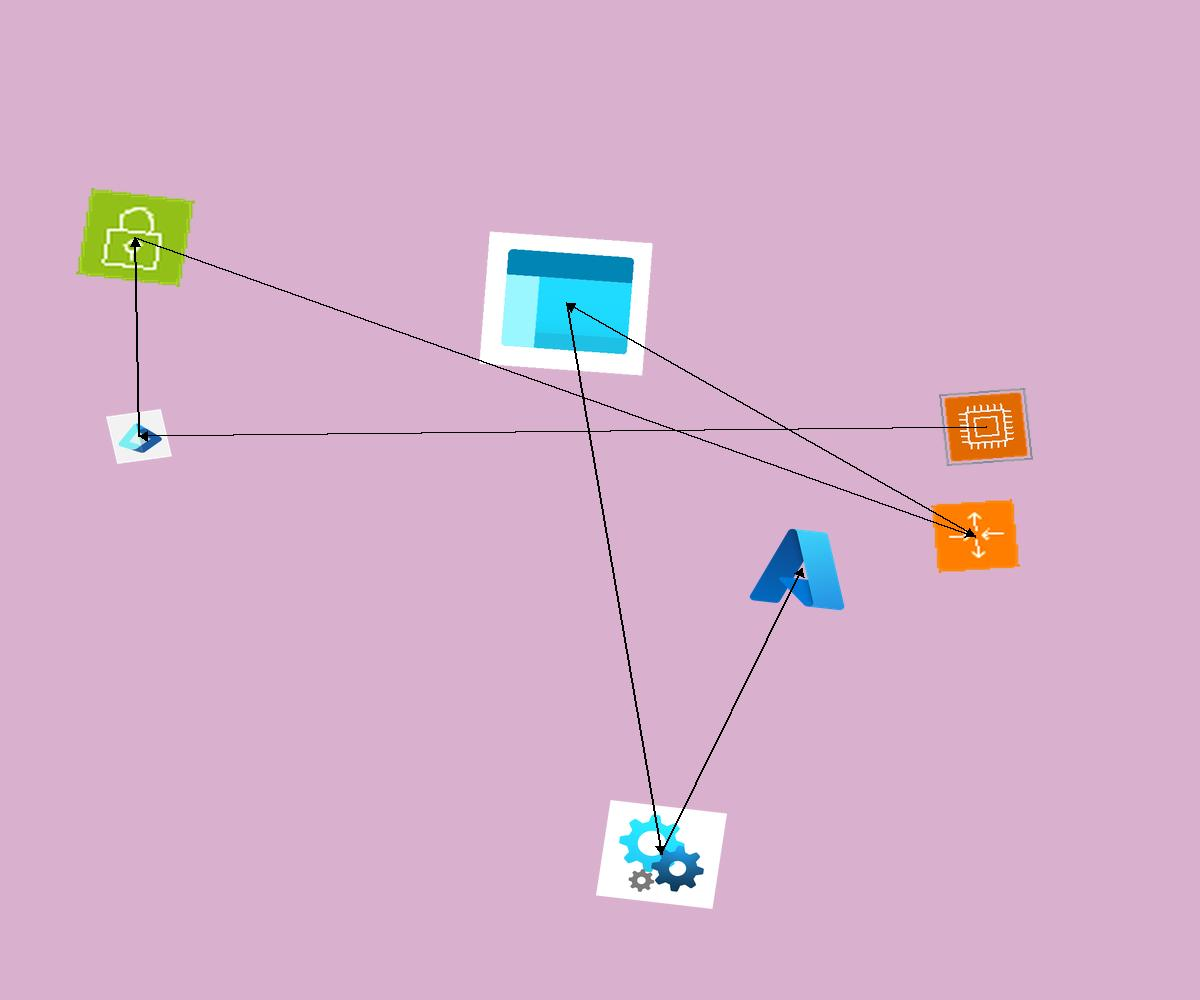AWS-Category_Compute: (939, 388, 1033, 466)
AWS-Public-subnet: (76, 188, 195, 287)
AWS-Scaling-group: (931, 499, 1020, 573)
Azure_api: (596, 800, 727, 909)
Azure_management-portal: (479, 231, 653, 376)
Azure_microsoft_entra: (106, 409, 172, 464)
Azure_services: (744, 519, 861, 617)
